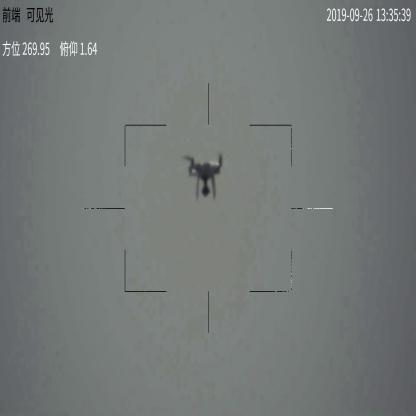uav: (182, 154, 224, 198)
